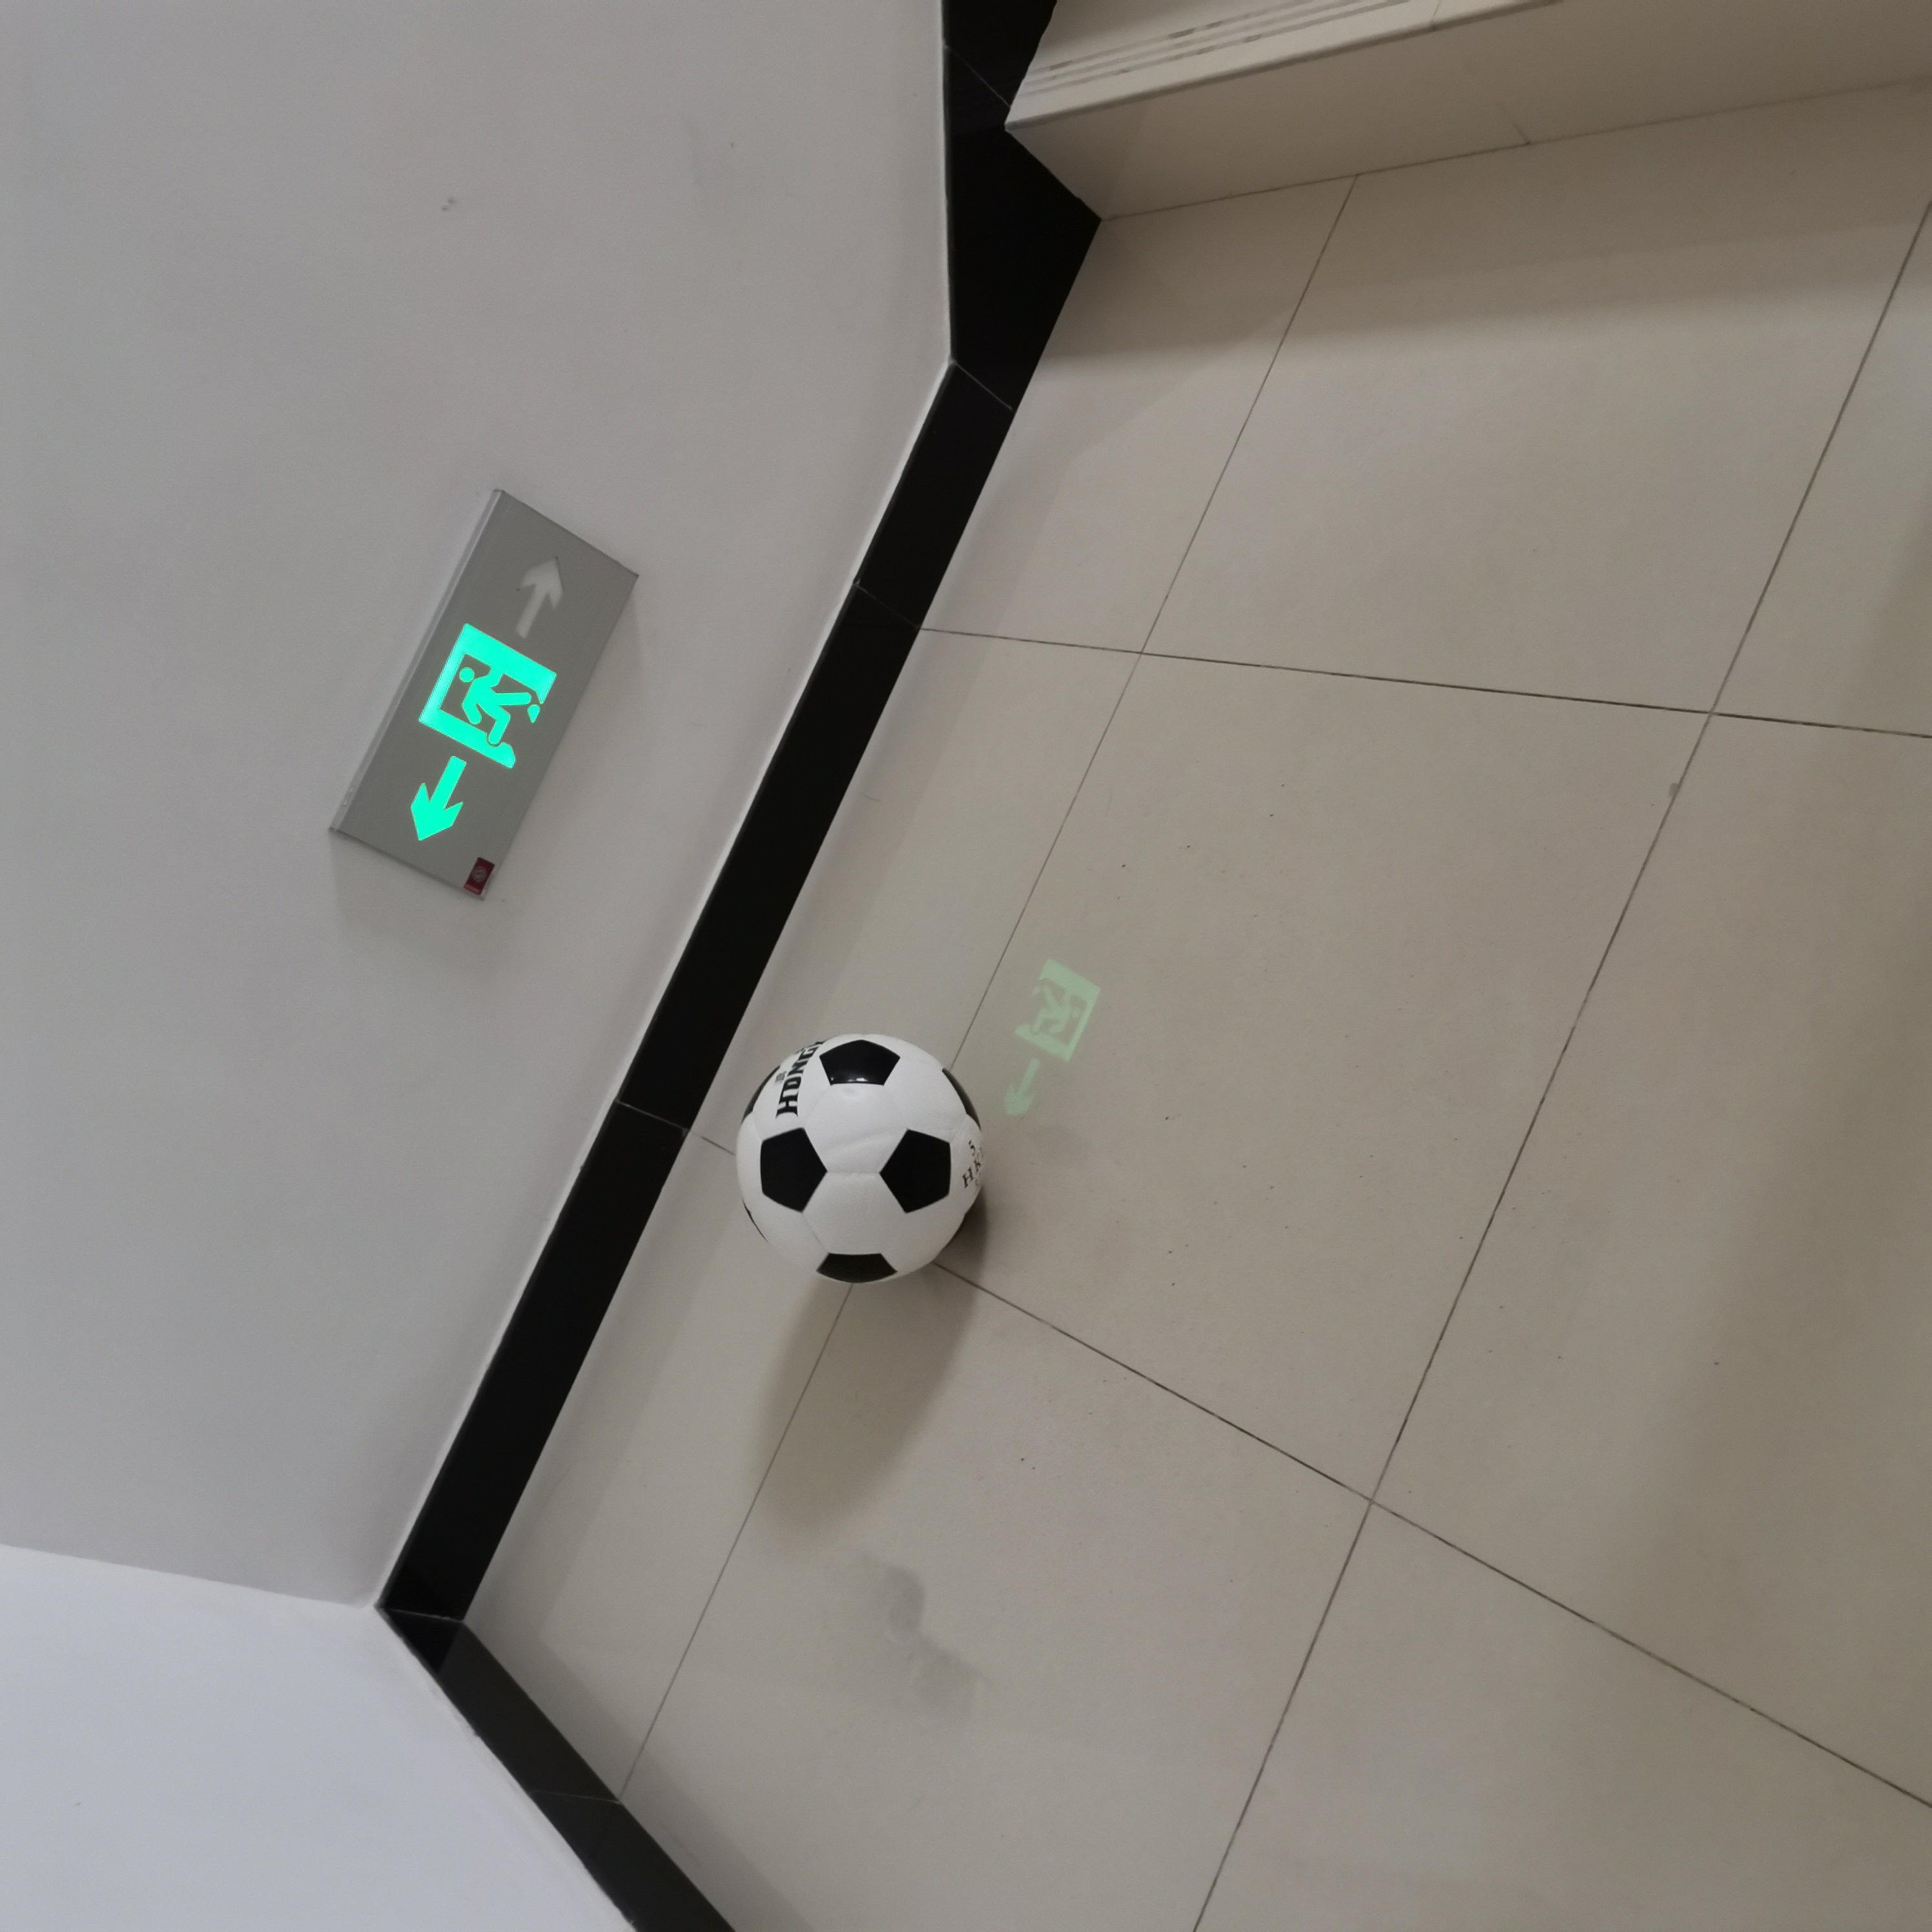football: (731, 1033, 987, 1286)
